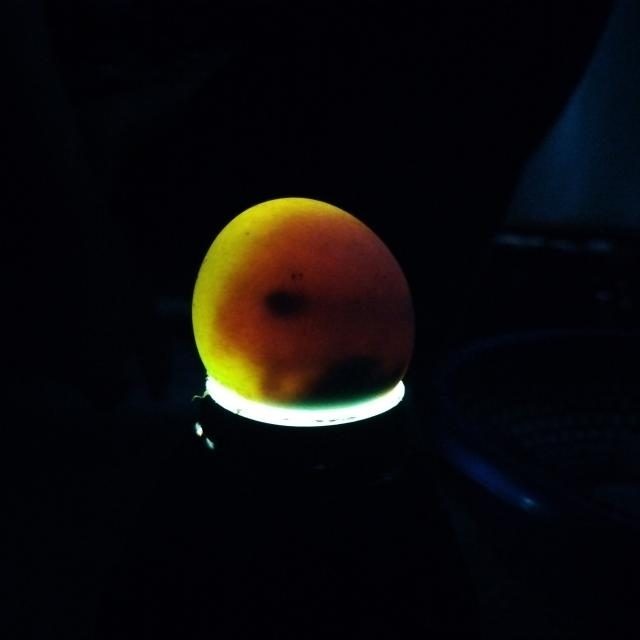Area Infectada: (262, 287, 418, 411), (290, 273, 304, 279)
